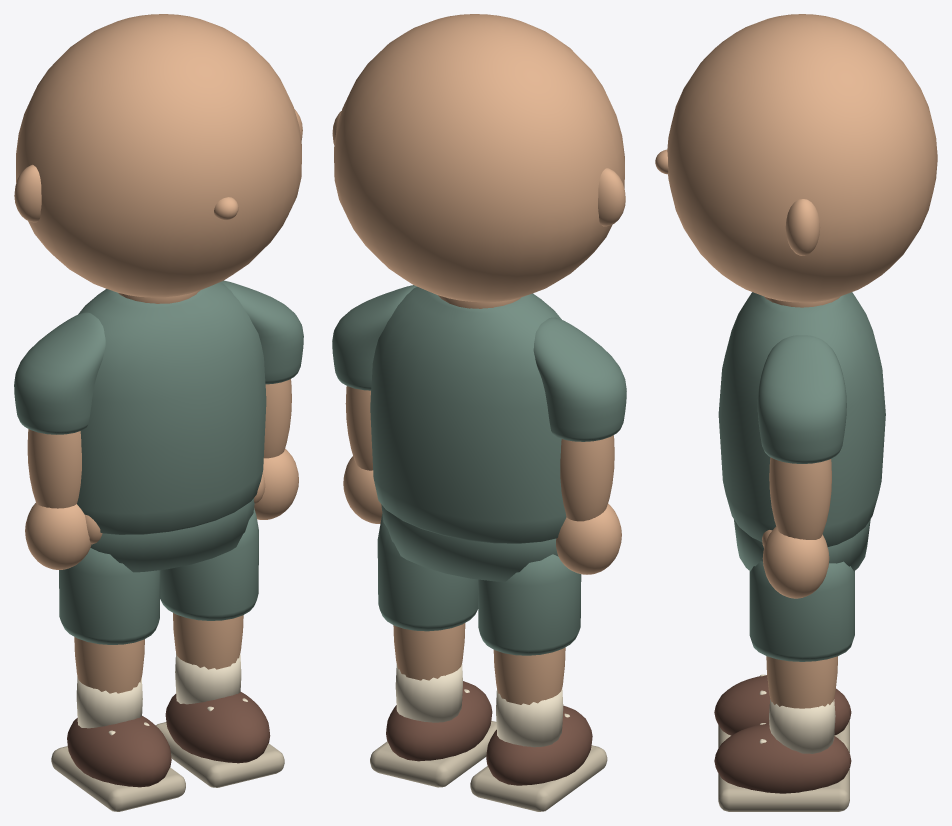
3 views of the same model, side by side, from view 1: azimuth 30°, elevation 25°; view 2: azimuth 150°, elevation 25°; view 3: azimuth 270°, elevation 25° (orthographic).
Visible parts, largest first — view 1: head, baseTop, baseSleeveL, basePantsL, basePantsR, shoeR, shoeL, baseBottom, baseSleeveR, skinArmL, skinHandL, skinLegR (+8 smaller); view 2: head, baseTop, baseSleeveL, basePantsL, basePantsR, baseBottom, shoeL, shoeR, baseSleeveR, skinArmL, soleL, skinLegR (+8 smaller); view 3: head, baseTop, baseSleeveR, basePantsR, shoeR, skinArmR, skinHandR, skinLegR, soleR, shoeL, sockR, baseBottom (+1 smaller).
Part boxes in pixels (left/top/right/bottom): head: left=16, top=14, right=301, bottom=297; baseTop: left=77, top=282, right=266, bottom=534; baseSleeveL: left=14, top=312, right=105, bottom=434; basePantsL: left=59, top=548, right=160, bottom=644; basePantsR: left=160, top=508, right=258, bottom=620; shoeR: left=165, top=692, right=270, bottom=763; shoeL: left=67, top=716, right=171, bottom=787; baseBottom: left=90, top=498, right=254, bottom=572; baseSleeveR: left=220, top=280, right=303, bottom=384; skinArmL: left=27, top=429, right=81, bottom=508; skinHandL: left=25, top=503, right=91, bottom=569; skinLegR: left=173, top=613, right=243, bottom=669; head: left=334, top=14, right=624, bottom=302; baseTop: left=370, top=286, right=566, bottom=543; baseSleeveL: left=533, top=317, right=626, bottom=441; basePantsL: left=478, top=554, right=581, bottom=655; basePantsR: left=377, top=514, right=478, bottom=631; baseBottom: left=381, top=504, right=558, bottom=581; shoeL: left=486, top=705, right=592, bottom=785; shoeR: left=386, top=681, right=492, bottom=761; baseSleeveR: left=332, top=285, right=416, bottom=390; skinArmL: left=560, top=435, right=614, bottom=521; soleL: left=470, top=745, right=607, bottom=811; skinLegR: left=393, top=623, right=465, bottom=680; head: left=667, top=14, right=937, bottom=302; baseTop: left=718, top=292, right=885, bottom=546; baseSleeveR: left=757, top=335, right=846, bottom=463; basePantsR: left=749, top=561, right=854, bottom=661; shoeR: left=714, top=723, right=851, bottom=793; skinArmR: left=769, top=457, right=831, bottom=539; skinHandR: left=762, top=526, right=829, bottom=598; skinLegR: left=766, top=656, right=837, bottom=708; soleR: left=718, top=769, right=849, bottom=811; shoeL: left=714, top=675, right=851, bottom=735; sockR: left=769, top=699, right=835, bottom=753; baseBottom: left=734, top=519, right=870, bottom=571.
Bounding box in the file's own units: 0.8558 × 2.12 × 0.7297.
